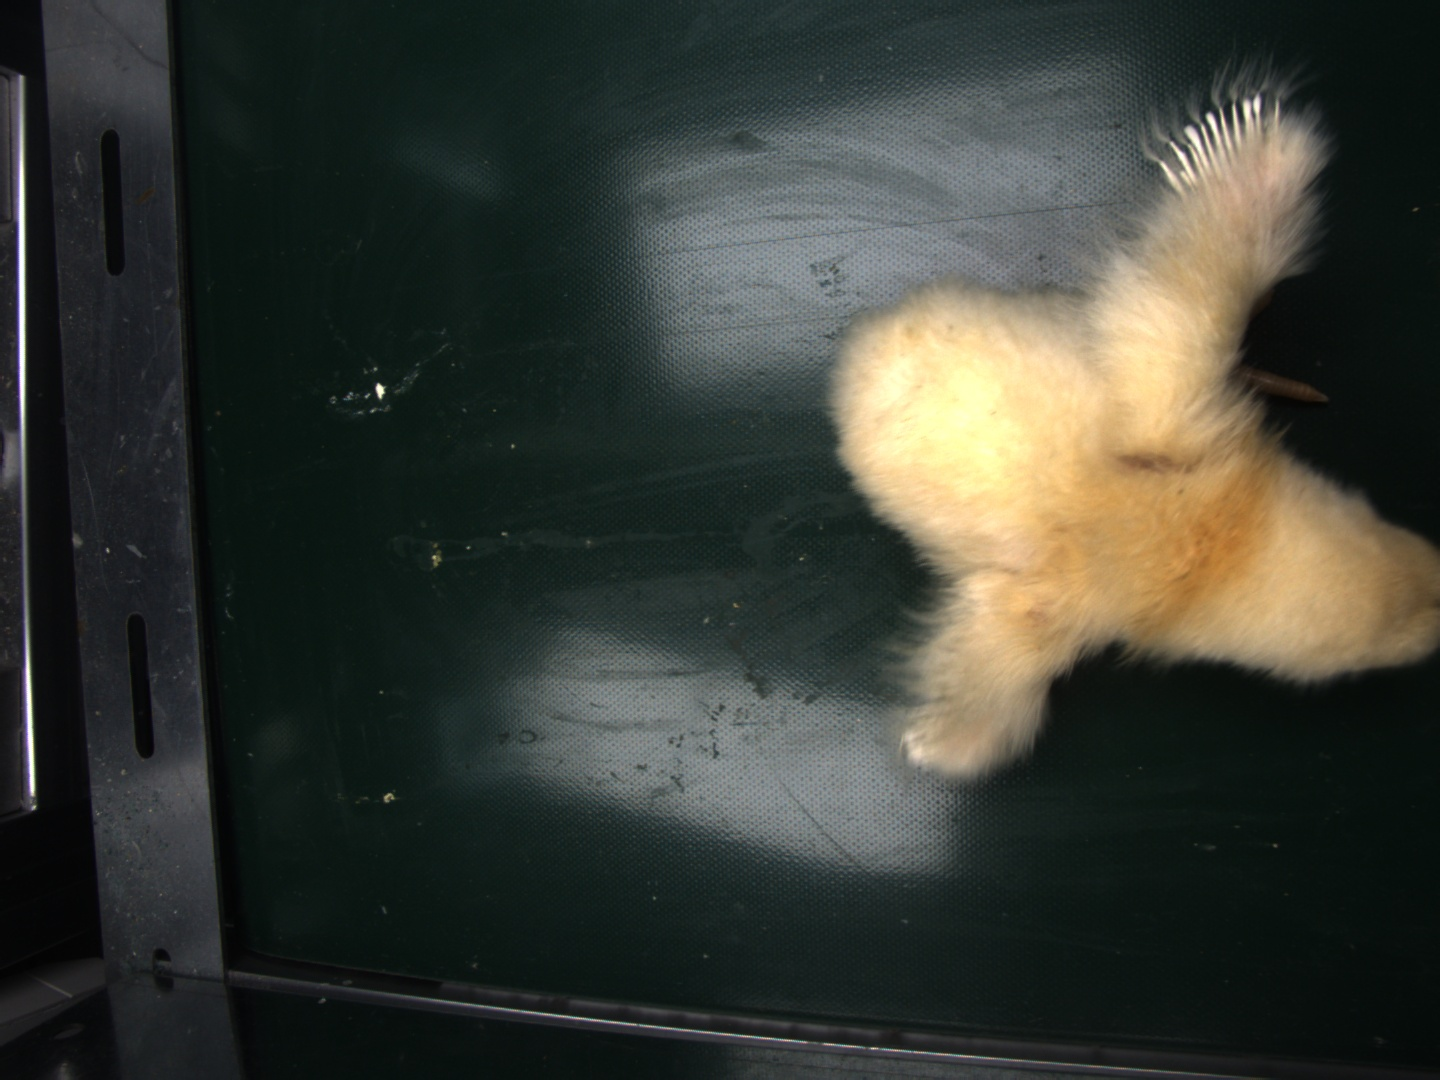male: (1161, 94, 1271, 199)
